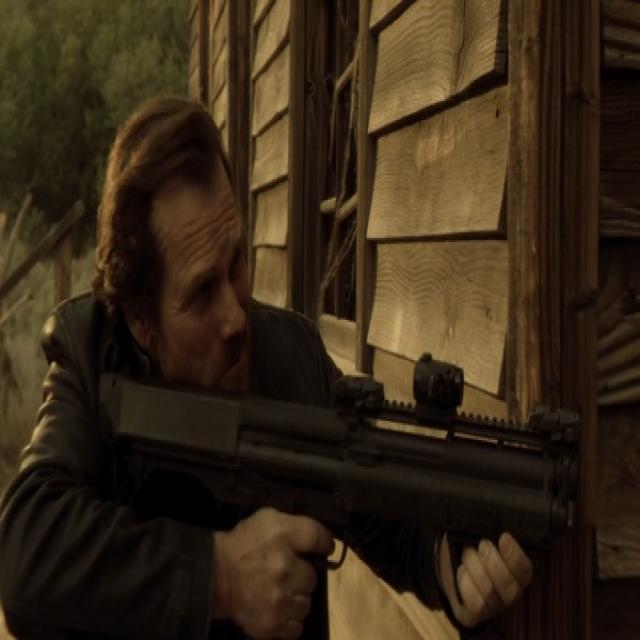rifle: (95, 337, 585, 562)
